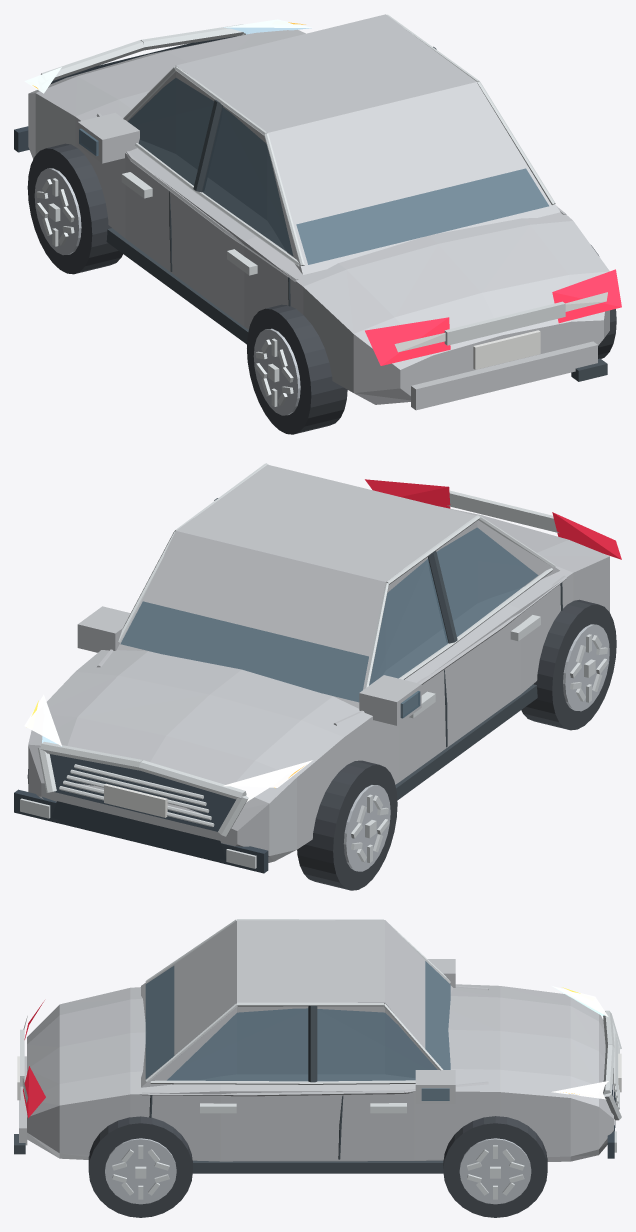
Rendered from camry_muscle_xv40.glb.
The picture shows the model from 3 angles, top to bottom: view 1: azimuth 30°, elevation 25°; view 2: azimuth 150°, elevation 25°; view 3: azimuth 270°, elevation 25°; orthographic projection. The views are drawn at different scales.
Visible parts, largest first — view 1: BodyPaint_SculptedBody, BodyPaint_RoofAndPillars, BodyPaint_RoofCentre, WindowGlass_RearWindow, WindowGlass_RearSide_-1, Wheel_Rear_L_Tyre, Wheel_Front_L_Tyre, WindowGlass_FrontSide_-1, RearLowerBumper, SideSkirt_-1, TailRed_-1, Wheel_Rear_L_Alloy (+12 smaller); view 2: BodyPaint_SculptedBody, BodyPaint_RoofAndPillars, BodyPaint_RoofCentre, WindowGlass_Windscreen, Wheel_Front_L_Tyre, WindowGlass_RearSide_-1, WindowGlass_FrontSide_-1, Wheel_Rear_L_Tyre, GrilleMesh_Front, LowerGrille, SideSkirt_-1, Wheel_Rear_L_Alloy (+16 smaller); view 3: BodyPaint_SculptedBody, BodyPaint_RoofAndPillars, BodyPaint_RoofCentre, WindowGlass_RearSide_1, WindowGlass_FrontSide_1, Wheel_Front_R_Tyre, Wheel_Rear_R_Tyre, SideSkirt_1, Wheel_Rear_R_Alloy, Wheel_Front_R_Alloy, WindowGlass_RearWindow, WindowGlass_Windscreen (+13 smaller).
Part boxes in pixels (x1,y1,x2,y2): BodyPaint_SculptedBody: [28, 29, 609, 404]; BodyPaint_RoofAndPillars: [127, 14, 560, 274]; BodyPaint_RoofCentre: [180, 15, 473, 131]; WindowGlass_RearWindow: [296, 168, 548, 264]; WindowGlass_RearSide_-1: [202, 107, 293, 256]; Wheel_Rear_L_Tyre: [247, 304, 347, 434]; Wheel_Front_L_Tyre: [27, 143, 122, 274]; WindowGlass_FrontSide_-1: [128, 78, 213, 185]; RearLowerBumper: [411, 341, 597, 410]; SideSkirt_-1: [106, 228, 248, 344]; TailRed_-1: [365, 317, 450, 365]; Wheel_Rear_L_Alloy: [253, 328, 300, 415]; BodyPaint_SculptedBody: [28, 506, 609, 862]; BodyPaint_RoofAndPillars: [117, 464, 559, 708]; BodyPaint_RoofCentre: [180, 465, 473, 579]; WindowGlass_Windscreen: [120, 601, 368, 702]; Wheel_Front_L_Tyre: [297, 760, 397, 890]; WindowGlass_RearSide_-1: [436, 527, 538, 636]; WindowGlass_FrontSide_-1: [369, 559, 448, 685]; Wheel_Rear_L_Tyre: [521, 599, 616, 730]; GrilleMesh_Front: [49, 754, 235, 831]; LowerGrille: [51, 801, 226, 862]; SideSkirt_-1: [395, 684, 537, 800]; Wheel_Rear_L_Alloy: [563, 624, 609, 711]; BodyPaint_SculptedBody: [27, 984, 613, 1161]; BodyPaint_RoofAndPillars: [141, 920, 453, 1087]; BodyPaint_RoofCentre: [238, 920, 382, 1001]; WindowGlass_RearSide_1: [167, 1008, 308, 1081]; WindowGlass_FrontSide_1: [317, 1009, 437, 1081]; Wheel_Front_R_Tyre: [443, 1116, 547, 1217]; Wheel_Rear_R_Tyre: [88, 1116, 192, 1217]; SideSkirt_1: [192, 1160, 443, 1173]; Wheel_Rear_R_Alloy: [105, 1138, 176, 1204]; Wheel_Front_R_Alloy: [459, 1138, 531, 1204]; WindowGlass_RearWindow: [145, 966, 174, 1078]; WindowGlass_Windscreen: [425, 961, 450, 1069].
Size of the model in its own units: 2.58 by 1.85 by 5.18.
